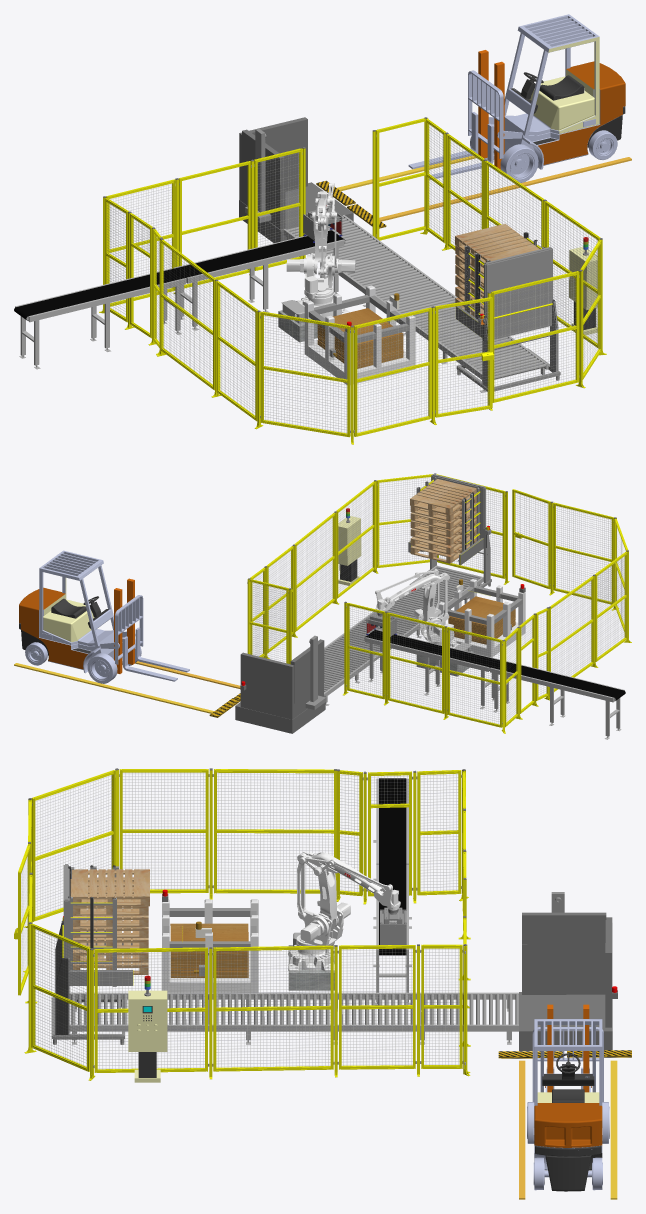
Rendered from Robot_APM.glb.
The picture shows the model from 3 angles, top to bottom: view 1: azimuth 30°, elevation 25°; view 2: azimuth 150°, elevation 25°; view 3: azimuth 270°, elevation 25°; orthographic projection. The views are drawn at different scales.
Parts seen in each view (by area): view 1: Carrito_final_2, Roller Conveyor, auto-pallet-dispenser_1_4, Segment 4, Segment 7, Segment 5, Pallet Layer_2, Belt Conveyor_2, Belt Conveyor, Segment 6, Segment 2, Segment 3 (+23 smaller); view 2: Carrito_final_2, Roller Conveyor, Pallet Layer_2, Segment 5, Segment 16, Belt Conveyor_2, Belt Conveyor, Segment 17, auto-pallet-dispenser_1_4, Segment 6, Segment 10, Segment 9 (+33 smaller); view 3: Roller Conveyor, Carrito_final_2, Segment 10, Segment 2, Segment 9, Segment 3, Segment 11, auto-pallet-dispenser_1_4, Segment 4, Segment 8, Pallet Layer_2, Segment 18 (+26 smaller).
Part boxes in pixels (left/top/right/bottom): Carrito_final_2: left=408, top=14, right=625, bottom=182; Roller Conveyor: left=283, top=215, right=548, bottom=392; auto-pallet-dispenser_1_4: left=456, top=232, right=560, bottom=391; Segment 4: left=260, top=311, right=353, bottom=444; Segment 7: left=491, top=269, right=585, bottom=402; Segment 5: left=353, top=306, right=436, bottom=436; Pallet Layer_2: left=304, top=285, right=415, bottom=384; Belt Conveyor_2: left=14, top=268, right=186, bottom=369; Belt Conveyor: left=173, top=229, right=345, bottom=330; Segment 6: left=435, top=291, right=493, bottom=417; Segment 2: left=161, top=240, right=220, bottom=397; Segment 3: left=216, top=281, right=263, bottom=429; Carrito_final_2: left=19, top=550, right=189, bottom=683; Roller Conveyor: left=324, top=565, right=483, bottom=705; Pallet Layer_2: left=438, top=579, right=525, bottom=657; Segment 5: left=549, top=501, right=613, bottom=604; Segment 16: left=387, top=612, right=448, bottom=719; Belt Conveyor_2: left=489, top=660, right=625, bottom=739; Belt Conveyor: left=364, top=629, right=499, bottom=708; Segment 17: left=447, top=627, right=505, bottom=733; auto-pallet-dispenser_1_4: left=408, top=474, right=491, bottom=603; Segment 6: left=503, top=489, right=550, bottom=589; Segment 10: left=291, top=513, right=335, bottom=637; Segment 9: left=332, top=481, right=375, bottom=604; Roller Conveyor: left=69, top=992, right=518, bottom=1044; Carrito_final_2: left=527, top=1004, right=609, bottom=1191; Segment 10: left=212, top=945, right=337, bottom=1077; Segment 2: left=209, top=768, right=333, bottom=899; Segment 9: left=93, top=947, right=212, bottom=1079; Segment 3: left=115, top=768, right=209, bottom=893; Segment 11: left=337, top=944, right=419, bottom=1076; auto-pallet-dispenser_1_4: left=52, top=864, right=133, bottom=1044; Segment 4: left=24, top=770, right=115, bottom=927; Segment 8: left=31, top=924, right=95, bottom=1080; Pallet Layer_2: left=162, top=899, right=258, bottom=992; Segment 18: left=413, top=770, right=462, bottom=903.
Size of the model in its own units: 13.36 by 2.54 by 9.52.
46 materials, 5 textured.
